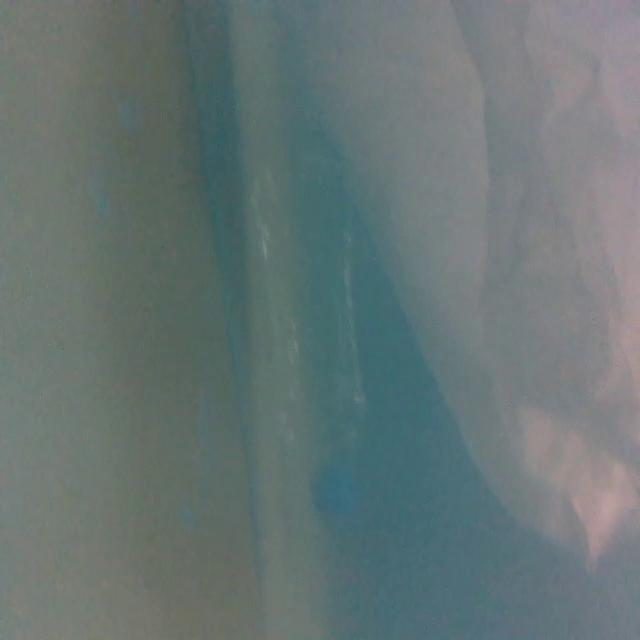plastic bags: (301, 0, 640, 576)
plastic bottle: (246, 153, 372, 537)
